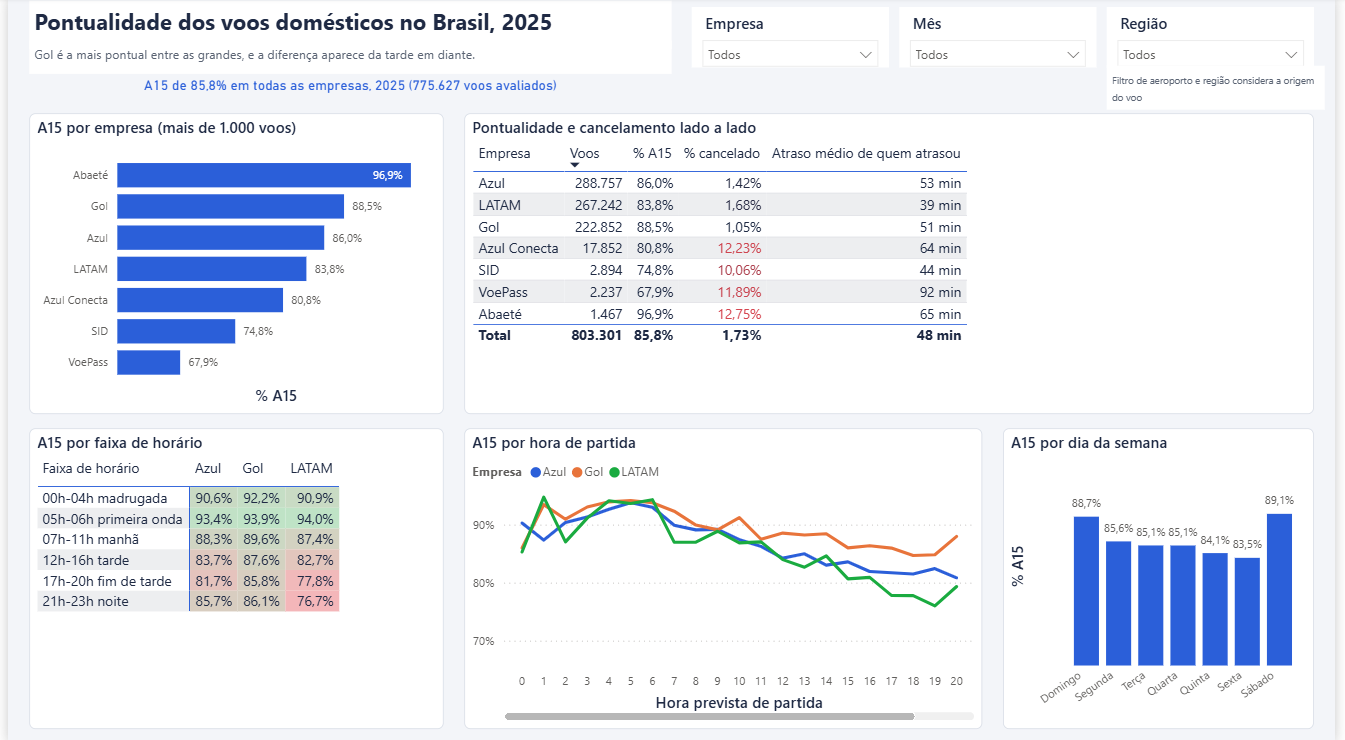

The dashboard page shown, as its layout file describes it:
{"tool":"powerbi","page":{"name":"Empresas e horários","canvas":[1280,720],"ordinal":1},"visuals":[{"type":"textbox","box":[20,4,620,46],"z":1000},{"type":"textbox","box":[20,42,620,32],"z":2000},{"type":"card","fields":{"Values":["_Medidas.Título Dinâmico"]},"box":[20,70,620,34],"z":3000},{"type":"slicer","fields":{"Values":["dim_empresa.nome"]},"box":[660,10,190,58],"z":4000},{"type":"slicer","fields":{"Values":["dim_data.nome_mes"]},"box":[860,10,190,58],"z":5000},{"type":"slicer","fields":{"Values":["dim_aeroporto.regiao"]},"box":[1060,10,200,58],"z":6000},{"type":"textbox","box":[1060,66,210,42],"z":7000},{"type":"clusteredBarChart","title":"A15 por empresa (mais de 1.000 voos)","fields":{"Category":["dim_empresa.nome"],"Y":["_Medidas.% A15"]},"box":[20,112,400,290],"z":8000},{"type":"tableEx","title":"Pontualidade e cancelamento lado a lado","fields":{"Values":["dim_empresa.nome","_Medidas.Voos","_Medidas.% A15","_Medidas.% Cancelado","_Medidas.Atraso Médio dos Atrasados"]},"box":[440,112,820,290],"z":9000},{"type":"pivotTable","title":"A15 por faixa de horário","fields":{"Columns":["dim_empresa.nome"],"Rows":["fato_voo.faixa_horario"],"Values":["_Medidas.% A15"]},"box":[20,416,400,290],"z":10000},{"type":"lineChart","title":"A15 por hora de partida","fields":{"Category":["fato_voo.hora_partida_prevista"],"Series":["dim_empresa.nome"],"Y":["_Medidas.% A15"]},"box":[440,416,500,290],"z":11000},{"type":"columnChart","title":"A15 por dia da semana","fields":{"Category":["dim_data.nome_dia"],"Y":["_Medidas.% A15"]},"box":[960,416,300,290],"z":12000}]}

Visuals, with their boxes in screenshot pixels (x1, y1, x2, y2), scaled from the page's 1280x720 canvas onto the 1345x740 screenshot:
textbox: bbox(21, 4, 672, 51)
textbox: bbox(21, 43, 672, 76)
card - _Medidas.Título Dinâmico: bbox(21, 72, 672, 107)
slicer - dim_empresa.nome: bbox(694, 10, 893, 70)
slicer - dim_data.nome_mes: bbox(904, 10, 1103, 70)
slicer - dim_aeroporto.regiao: bbox(1114, 10, 1324, 70)
textbox: bbox(1114, 68, 1334, 111)
"A15 por empresa (mais de 1.000 voos)" clusteredBarChart: bbox(21, 115, 441, 413)
"Pontualidade e cancelamento lado a lado" tableEx: bbox(462, 115, 1324, 413)
"A15 por faixa de horário" pivotTable: bbox(21, 428, 441, 726)
"A15 por hora de partida" lineChart: bbox(462, 428, 988, 726)
"A15 por dia da semana" columnChart: bbox(1009, 428, 1324, 726)
